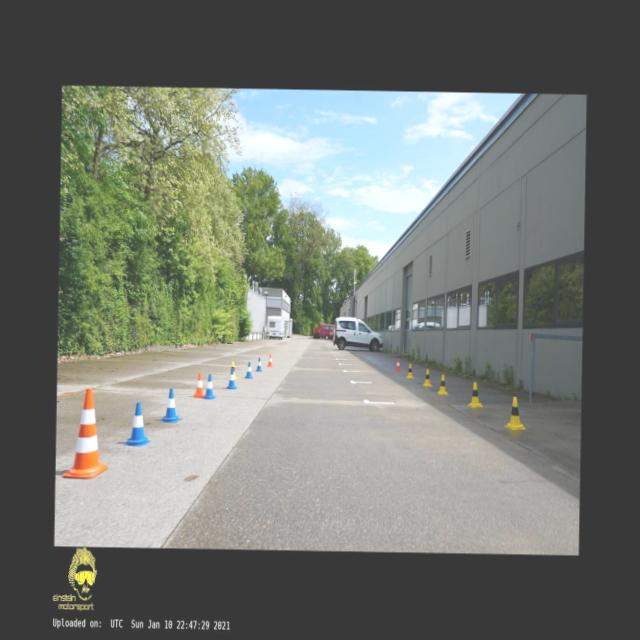blue_cone: (123, 402, 151, 446), (161, 388, 181, 422), (203, 374, 216, 398), (226, 368, 236, 389), (245, 361, 252, 379), (255, 356, 262, 372)
large_orange_cone: (62, 387, 110, 479)
orange_cone: (193, 372, 204, 398), (267, 354, 273, 366), (395, 358, 400, 371)
yellow_cone: (504, 396, 526, 430), (467, 381, 483, 407), (437, 374, 448, 394), (422, 368, 432, 386), (230, 361, 237, 378), (406, 363, 413, 379)
